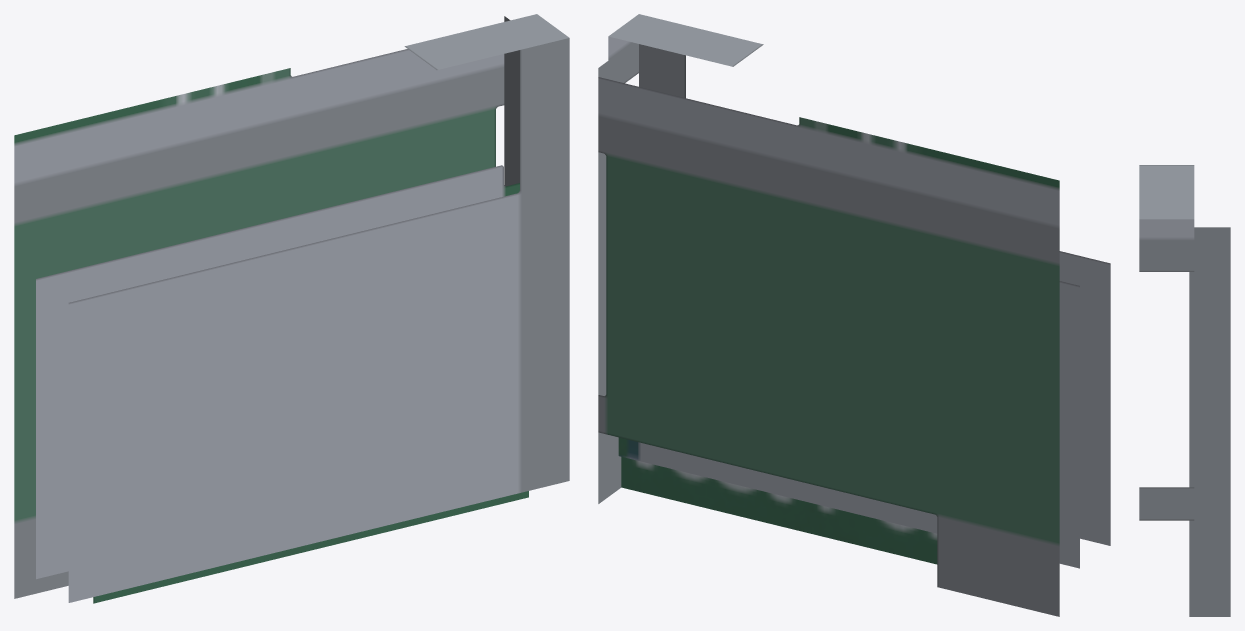
File: section-1.obj
3 renders of one model, left to right at view 1: azimuth 30°, elevation 25°; view 2: azimuth 150°, elevation 25°; view 3: azimuth 270°, elevation 25°, orthographic. The views are drawn at different scales.
Bounding box in the file's own units: 0.9345 × 0.8528 × 0.1753.
